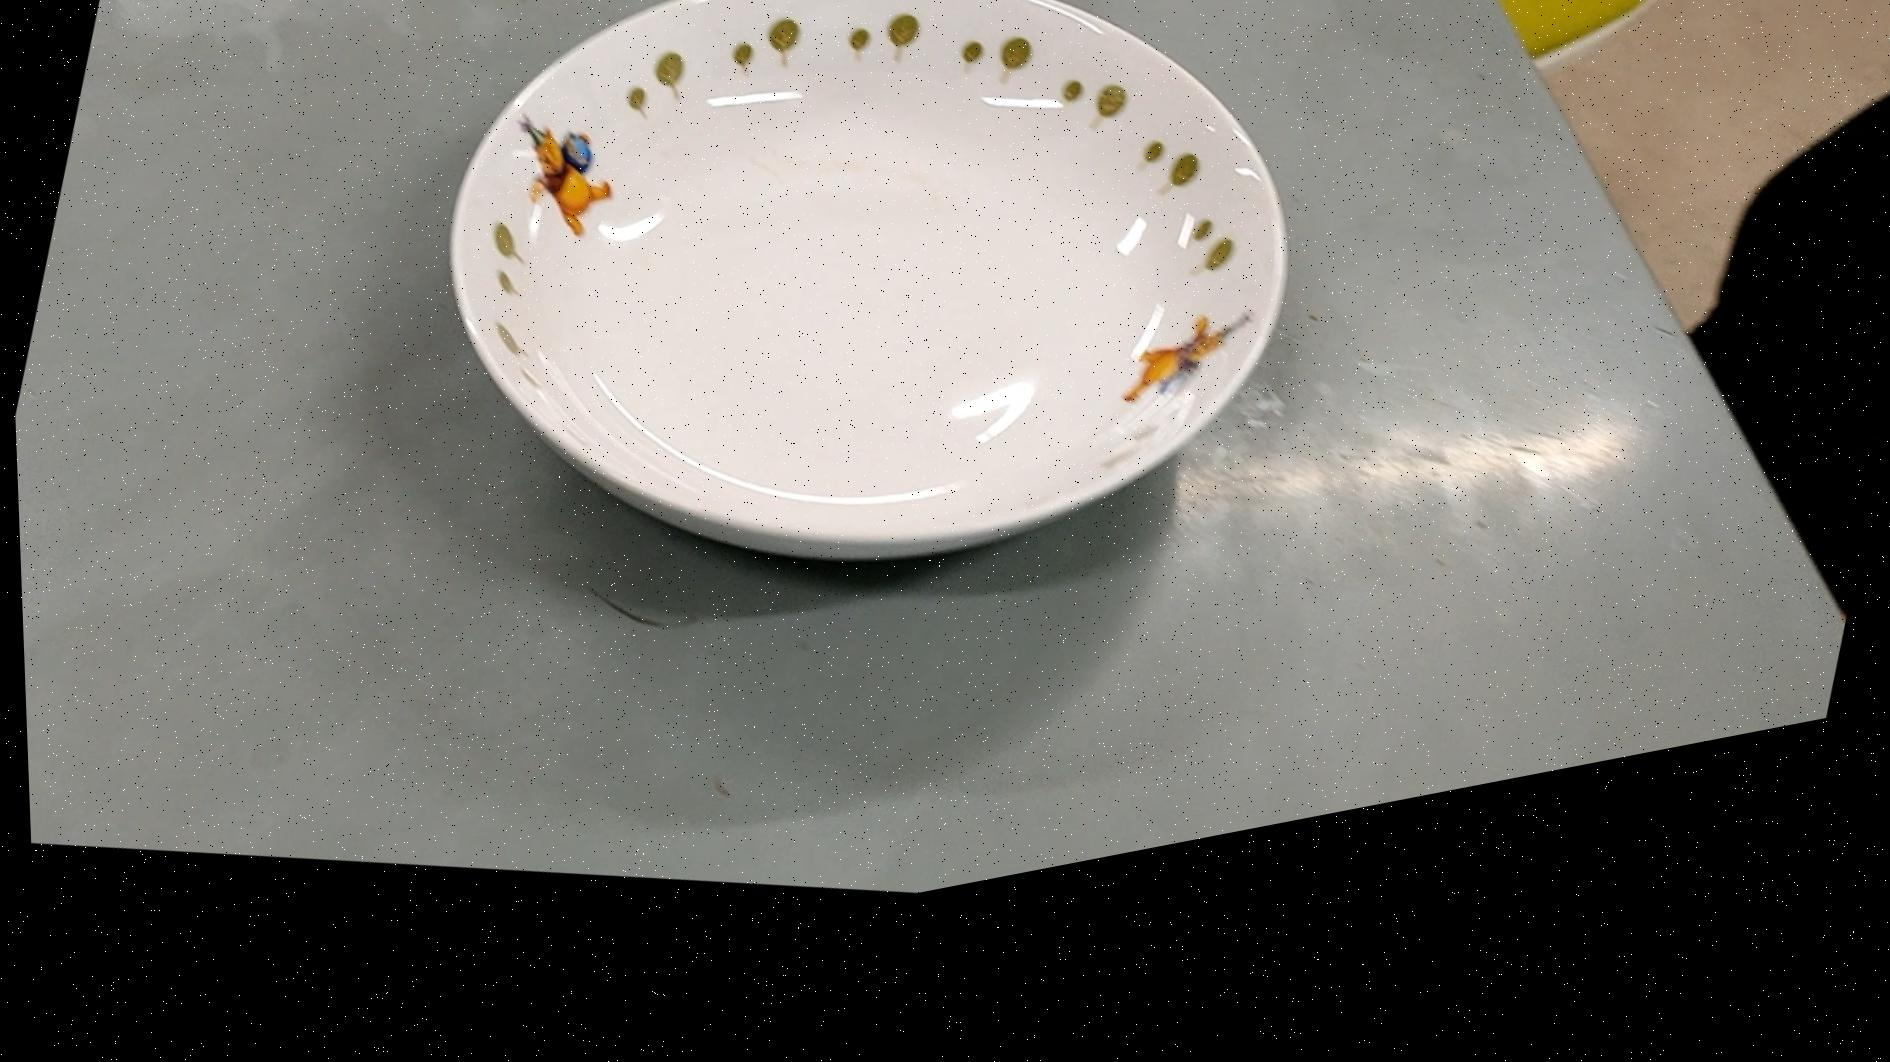plate: (367, 0, 1363, 765)
